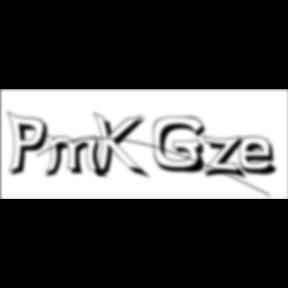G: (153, 116, 212, 176)
K: (92, 110, 152, 182)
P: (7, 110, 54, 180)
e: (239, 135, 285, 178)
m: (42, 132, 110, 181)
z: (202, 134, 250, 182)
